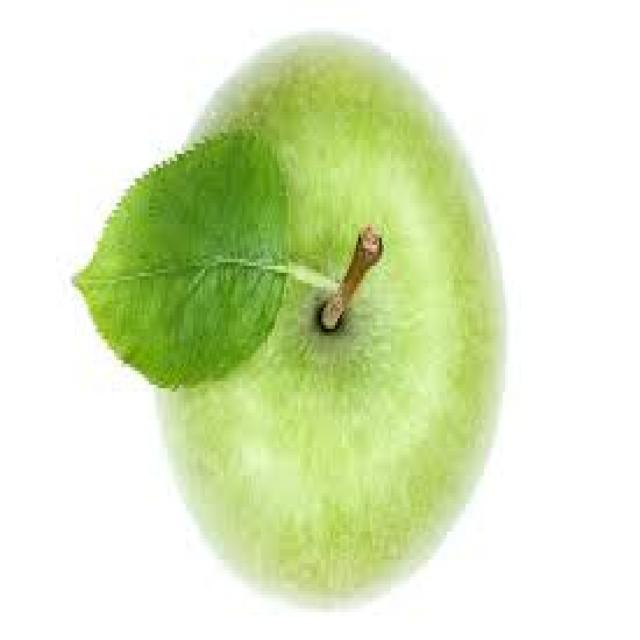apple: (149, 24, 512, 602)
